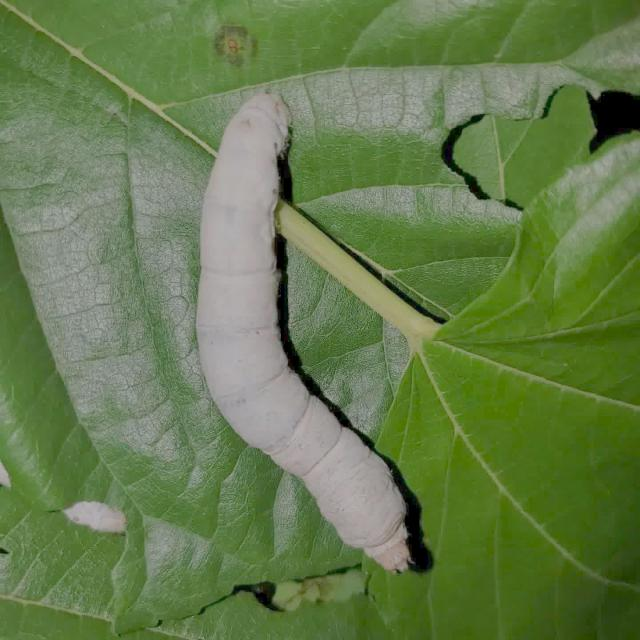Healthy: (174, 44, 448, 602)
